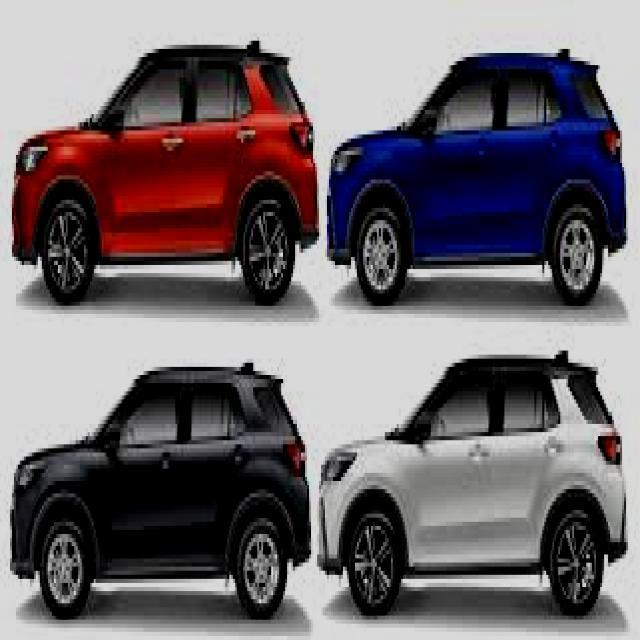PeroduaAtiva: (10, 38, 320, 306)
